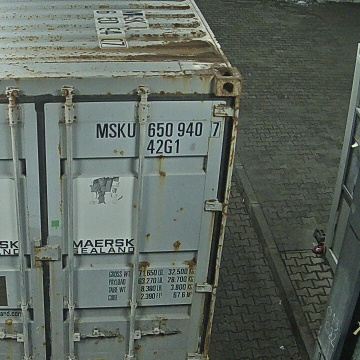serial_id: (96, 122, 219, 137)
